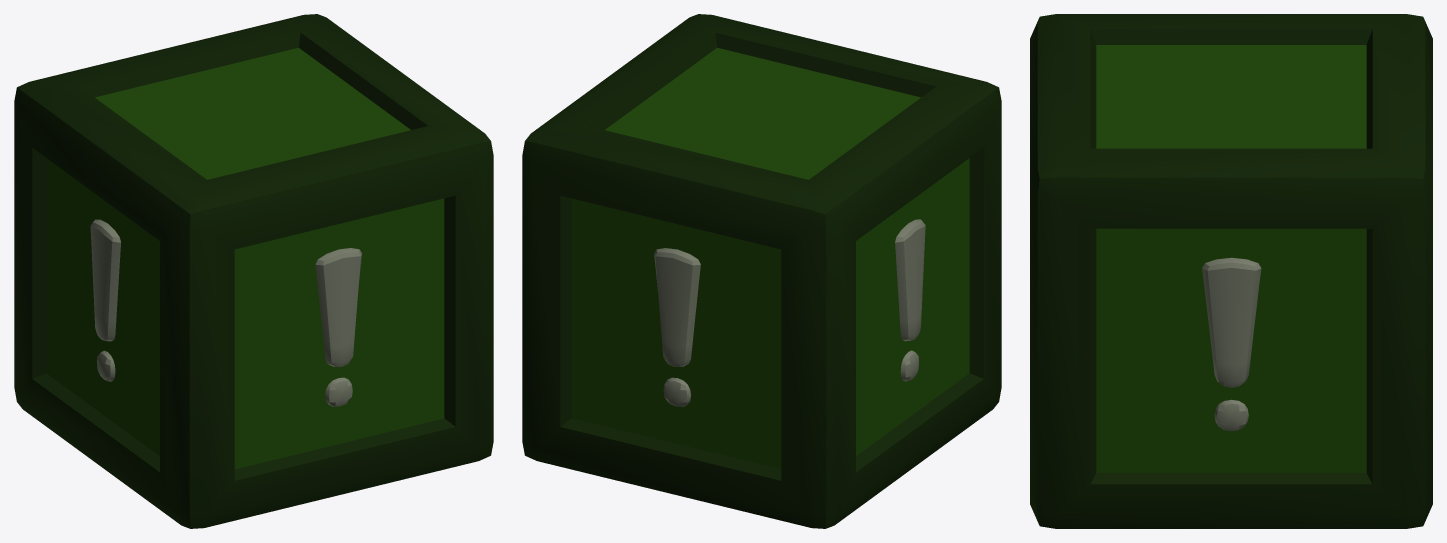
File: Cube_Exclamation.obj
The picture shows the model from 3 angles, left to right: view 1: azimuth 30°, elevation 25°; view 2: azimuth 150°, elevation 25°; view 3: azimuth 270°, elevation 25°; orthographic projection. The views are drawn at different scales.
Visible parts, largest first — view 1: Cube_Exclamation_Cube.253; view 2: Cube_Exclamation_Cube.253; view 3: Cube_Exclamation_Cube.253.
Part boxes in pixels (x1,y1,x2,y2): Cube_Exclamation_Cube.253: [14, 14, 493, 528]; Cube_Exclamation_Cube.253: [522, 14, 1001, 528]; Cube_Exclamation_Cube.253: [1030, 14, 1432, 528].
Bounding box in the file's own units: 2.02 × 2.02 × 2.02.
